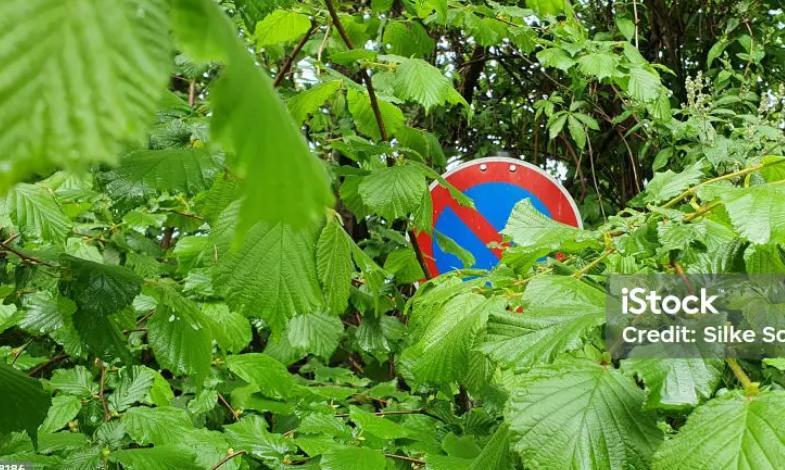obstructed_road_sign: (405, 156, 586, 313)
